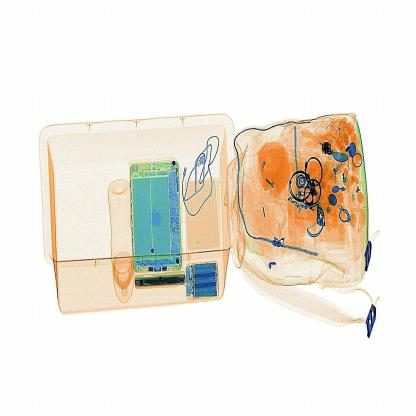scissors: (316, 134, 340, 170)
